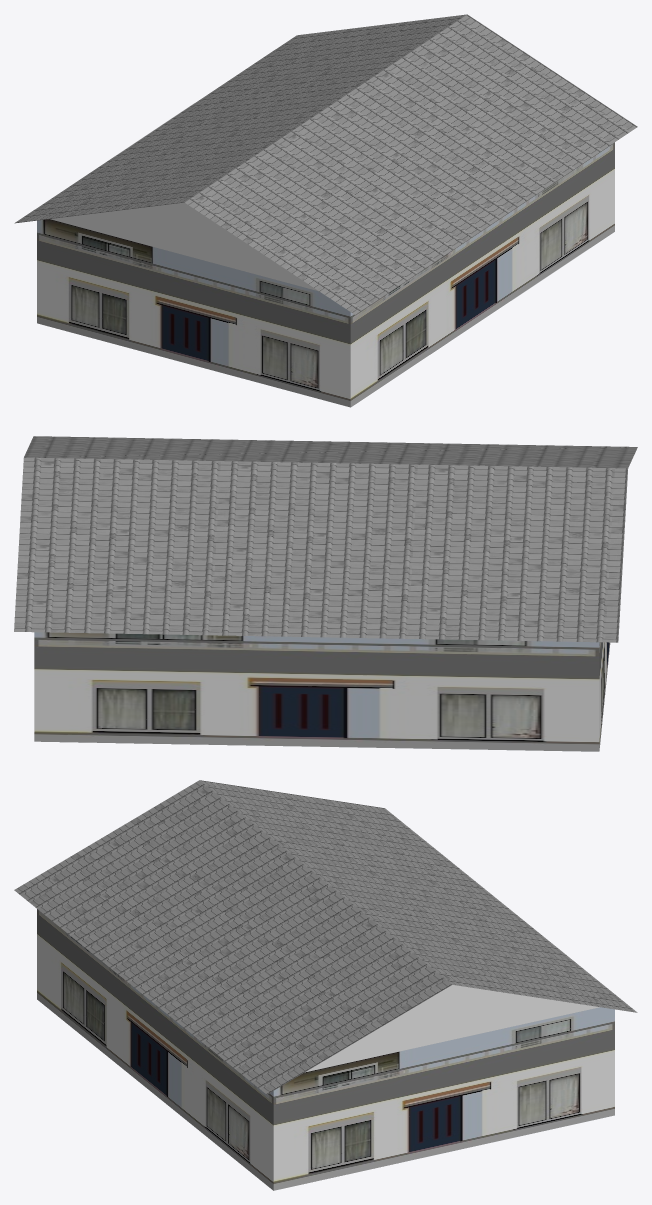
3 views of the same model, one above another, from view 1: azimuth 30°, elevation 25°; view 2: azimuth 150°, elevation 25°; view 3: azimuth 270°, elevation 25° (orthographic). The views are drawn at different scales.
Parts seen in each view (by area): view 1: CityEngineMaterial_4_m, CityEngineMaterial_7_m, CityEngineMaterial_3_m; view 2: CityEngineMaterial_4_m, CityEngineMaterial_7_m; view 3: CityEngineMaterial_4_m, CityEngineMaterial_7_m, CityEngineMaterial_3_m.
Boxes of the visible parts, x1=… form: CityEngineMaterial_4_m: x1=14, y1=14, x2=637, y2=314; CityEngineMaterial_7_m: x1=37, y1=142, x2=614, y2=407; CityEngineMaterial_3_m: x1=50, y1=202, x2=318, y2=291; CityEngineMaterial_4_m: x1=14, y1=436, x2=637, y2=642; CityEngineMaterial_7_m: x1=34, y1=632, x2=610, y2=751; CityEngineMaterial_4_m: x1=14, y1=780, x2=637, y2=1094; CityEngineMaterial_7_m: x1=37, y1=909, x2=614, y2=1190; CityEngineMaterial_3_m: x1=305, y1=985, x2=599, y2=1072.
Bounding box in the file's own units: 38.06 × 10.84 × 35.03.
